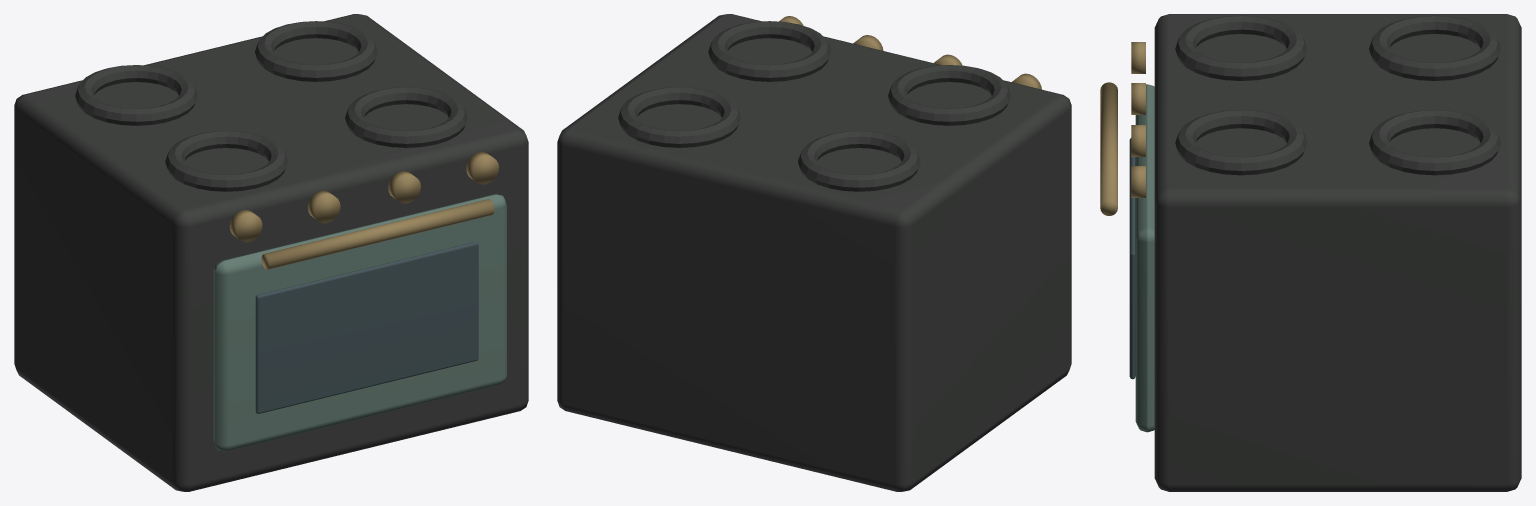
Rendered from kitchen.glb.
3 renders of one model, left to right at view 1: azimuth 30°, elevation 25°; view 2: azimuth 150°, elevation 25°; view 3: azimuth 270°, elevation 25°, orthographic. The views are drawn at different scales.
Visible parts, largest first — view 1: kitchen; view 2: kitchen; view 3: kitchen.
Boxes of the visible parts, x1,y1,x2,y2 form: kitchen: (14,14,528,491); kitchen: (557,14,1071,491); kitchen: (1100,14,1521,491).
Bounding box in the file's own units: 1.5 × 1.19 × 1.43.
